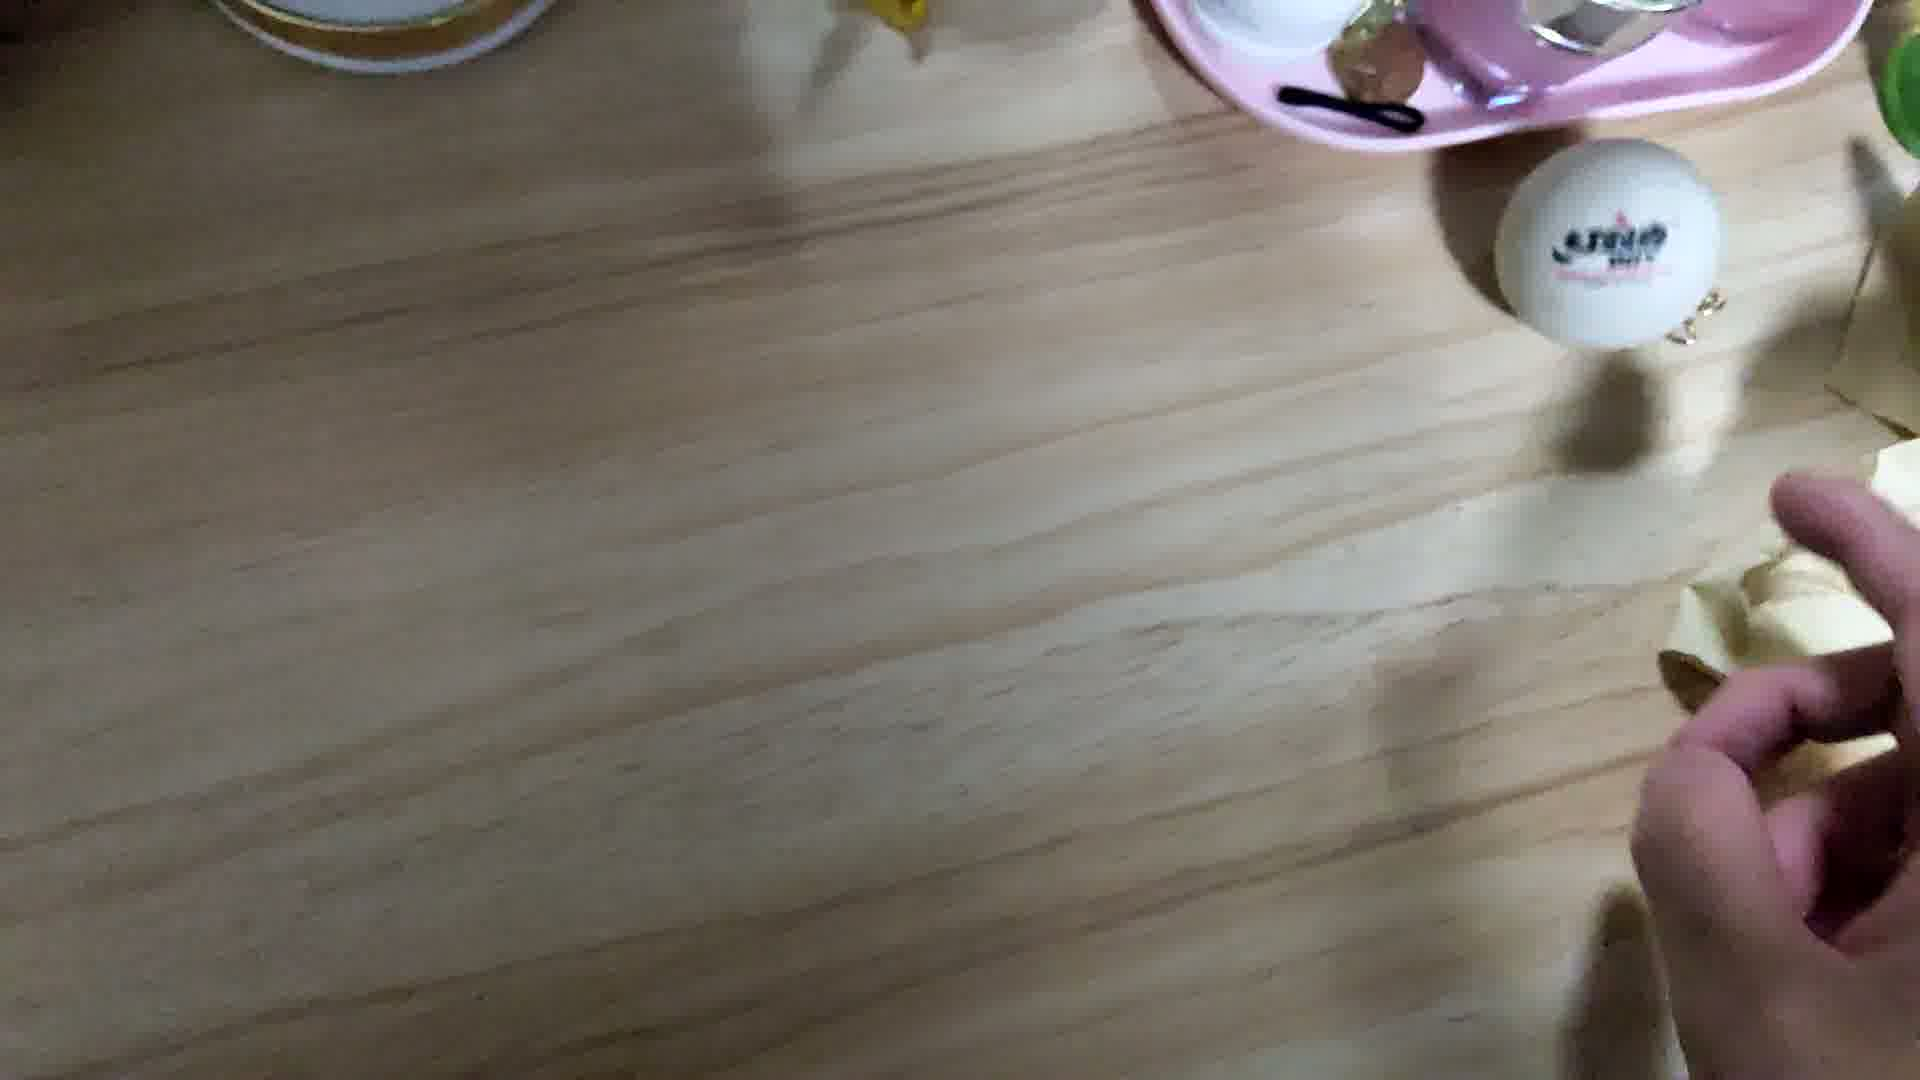Ball: (1499, 140, 1717, 356)
